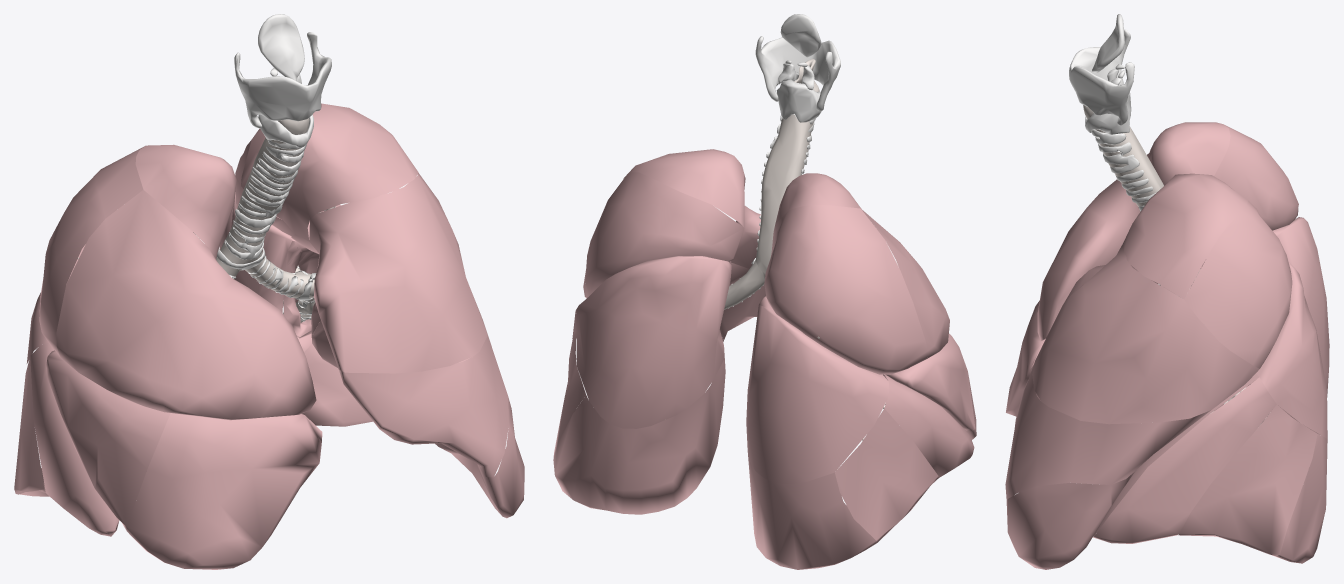
File: lungs.glb
3 renders of one model, left to right at view 1: azimuth 30°, elevation 25°; view 2: azimuth 150°, elevation 25°; view 3: azimuth 270°, elevation 25°, orthographic. The views are drawn at different scales.
Parts seen in each view (by area): view 1: VH_M_right_anterior_bronchopulmonary_segment, VH_M_left_anterior_bronchopulmonary_segment, VH_M_right_medial_bronchopulmonary_segment, VH_M_left_lingula_superior_bronchopulmonary_segment, VH_M_left_apical_bronchopulmonary_segment, VH_M_right_lateral_bronchopulmonary_segment, VH_M_right_apical_bronchopulmonary_segment, VH_M_right_posterior_bronchopulmonary_segment, VH_M_right_anterior_basal_bronchopulmonary_segment, VH_M_thyroid_cartilage, VH_M_tracheal_cartilage, VH_M_left_lingula_inferior_bronchopulmonary_segment (+11 smaller); view 2: VH_M_left_superior_bronchopulmonary_segment, VH_M_right_posterior_bronchopulmonary_segment, VH_M_right_superior_bronchopulmonary_segment, VH_M_left_posetrior_basal_bronchopulmonary_segment, VH_M_left_posterior_bronchopulmonary_segment, VH_M_right_posterior_basal_bronchopulmonary_segment, VH_M_right_lateral_basal_bronchopulmonary_segment, VH_M_left_apical_bronchopulmonary_segment, VH_M_right_anterior_basal_bronchopulmonary_segment, VH_M_trachea, VH_M_right_lateral_bronchopulmonary_segment, VH_M_right_anterior_bronchopulmonary_segment (+8 smaller); view 3: VH_M_left_anterior_bronchopulmonary_segment, VH_M_left_lateral_basal_bronchopulmonary_segment, VH_M_left_posterior_bronchopulmonary_segment, VH_M_left_anterior_basal_bronchopulmonary_segment, VH_M_left_lingula_superior_bronchopulmonary_segment, VH_M_left_apical_bronchopulmonary_segment, VH_M_left_lingula_inferior_bronchopulmonary_segment, VH_M_left_superior_bronchopulmonary_segment, VH_M_right_anterior_bronchopulmonary_segment, VH_M_right_posterior_bronchopulmonary_segment, VH_M_right_apical_bronchopulmonary_segment, VH_M_left_posetrior_basal_bronchopulmonary_segment (+8 smaller).
Part boxes in pixels (<box>): VH_M_right_anterior_bronchopulmonary_segment: <box>56,190,316,420</box>; VH_M_left_anterior_bronchopulmonary_segment: <box>309,173,487,373</box>; VH_M_right_medial_bronchopulmonary_segment: <box>122,413,322,569</box>; VH_M_left_lingula_superior_bronchopulmonary_segment: <box>339,328,508,477</box>; VH_M_left_apical_bronchopulmonary_segment: <box>241,103,418,241</box>; VH_M_right_lateral_bronchopulmonary_segment: <box>46,350,170,526</box>; VH_M_right_apical_bronchopulmonary_segment: <box>135,144,236,259</box>; VH_M_right_posterior_bronchopulmonary_segment: <box>39,146,144,356</box>; VH_M_right_anterior_basal_bronchopulmonary_segment: <box>30,342,119,536</box>; VH_M_thyroid_cartilage: <box>234,32,331,128</box>; VH_M_tracheal_cartilage: <box>225,140,307,259</box>; VH_M_left_lingula_inferior_bronchopulmonary_segment: <box>311,320,524,518</box>; VH_M_left_superior_bronchopulmonary_segment: <box>576,256,731,428</box>; VH_M_right_posterior_bronchopulmonary_segment: <box>764,205,927,374</box>; VH_M_right_superior_bronchopulmonary_segment: <box>746,295,889,483</box>; VH_M_left_posetrior_basal_bronchopulmonary_segment: <box>553,358,725,514</box>; VH_M_left_posterior_bronchopulmonary_segment: <box>585,172,744,294</box>; VH_M_right_posterior_basal_bronchopulmonary_segment: <box>747,451,876,569</box>; VH_M_right_lateral_basal_bronchopulmonary_segment: <box>835,408,938,542</box>; VH_M_left_apical_bronchopulmonary_segment: <box>623,149,745,227</box>; VH_M_right_anterior_basal_bronchopulmonary_segment: <box>884,374,974,477</box>; VH_M_trachea: <box>755,59,819,278</box>; VH_M_right_lateral_bronchopulmonary_segment: <box>883,334,975,431</box>; VH_M_right_anterior_bronchopulmonary_segment: <box>861,209,949,358</box>; VH_M_left_anterior_bronchopulmonary_segment: <box>1032,244,1259,424</box>; VH_M_left_lateral_basal_bronchopulmonary_segment: <box>1178,405,1317,556</box>; VH_M_left_posterior_bronchopulmonary_segment: <box>1184,200,1292,368</box>; VH_M_left_anterior_basal_bronchopulmonary_segment: <box>1093,377,1276,543</box>; VH_M_left_lingula_superior_bronchopulmonary_segment: <box>1005,362,1257,499</box>; VH_M_left_apical_bronchopulmonary_segment: <box>1123,173,1247,298</box>; VH_M_left_lingula_inferior_bronchopulmonary_segment: <box>1006,472,1134,569</box>; VH_M_left_superior_bronchopulmonary_segment: <box>1256,262,1327,438</box>; VH_M_right_anterior_bronchopulmonary_segment: <box>1037,153,1148,340</box>; VH_M_right_posterior_bronchopulmonary_segment: <box>1214,125,1298,230</box>; VH_M_right_apical_bronchopulmonary_segment: <box>1138,122,1230,211</box>; VH_M_left_posetrior_basal_bronchopulmonary_segment: <box>1270,434,1327,563</box>.
Size of the model in its own units: 0.2589 by 0.3146 by 0.1895.
